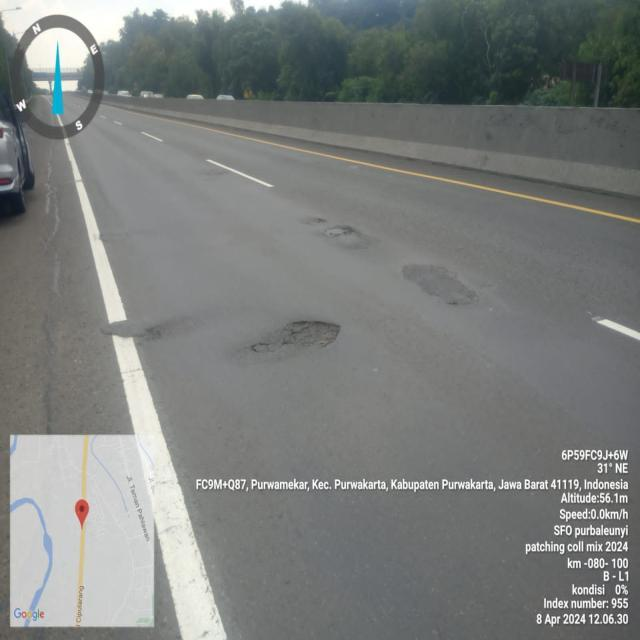Buraco: (279, 318, 344, 349), (321, 224, 357, 240)
